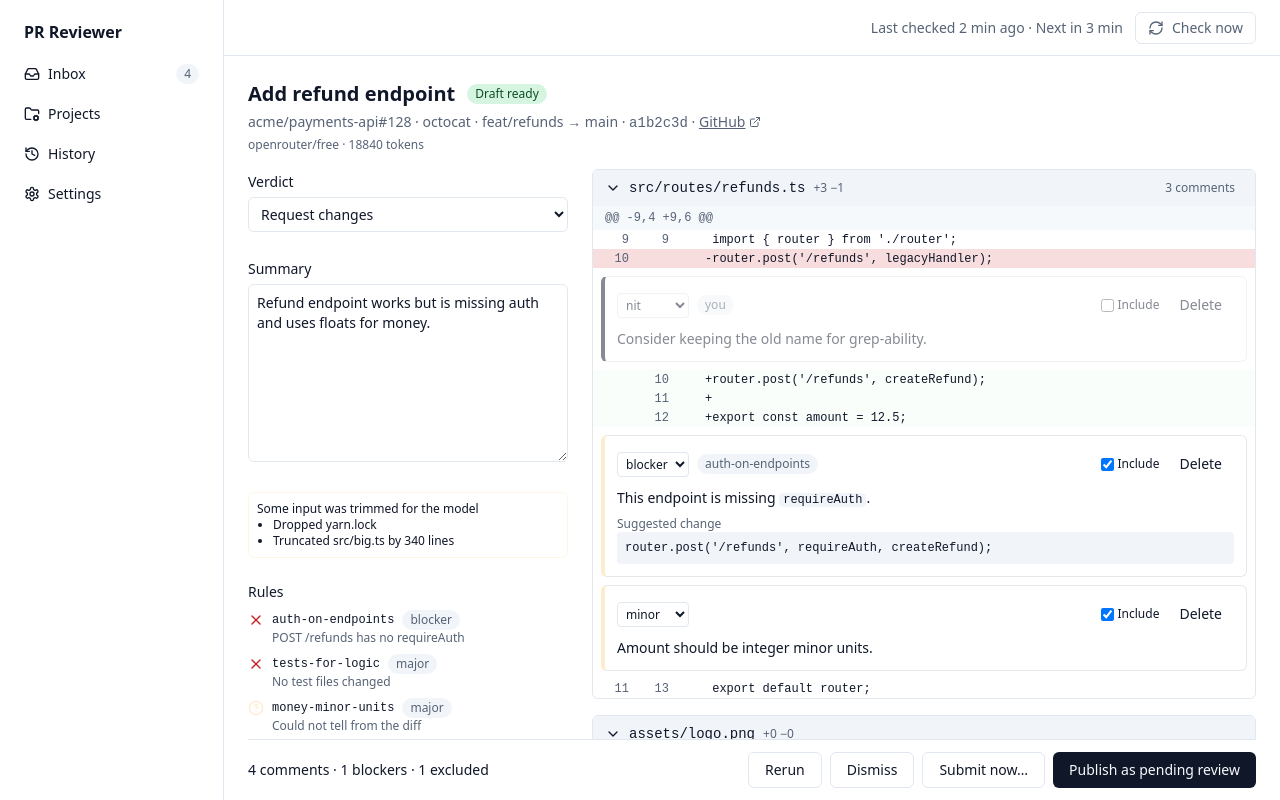
Test: Publish flow › publishes as a pending review by default and reports what was folded
The width and height of the screenshot is (1280, 800).
Click the button "Publish as pending review".
click(1155, 770)  # box x1=1053 y1=752 x2=1256 y2=788
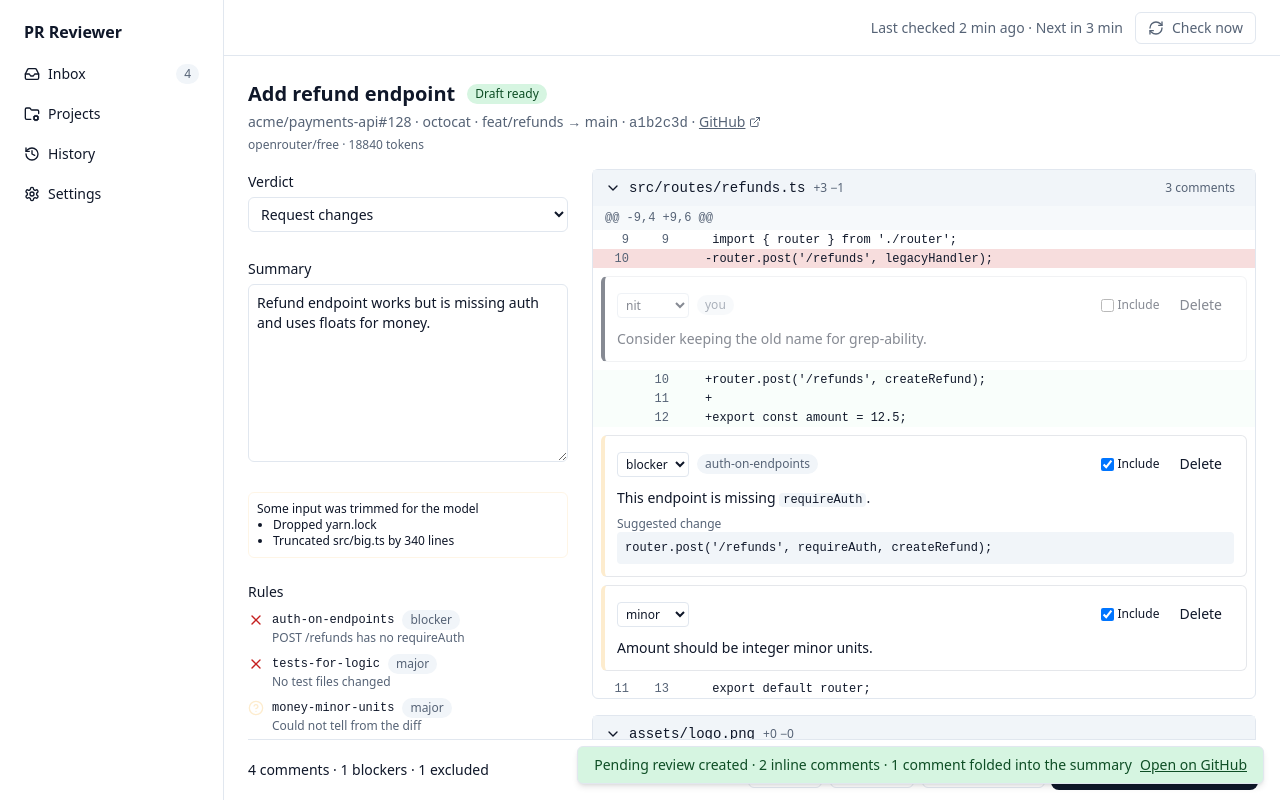
Now the text "Pending review created · 2 inline comments" shows "1 comment folded into the summary", box x1=594 y1=755 x2=1132 y2=774
